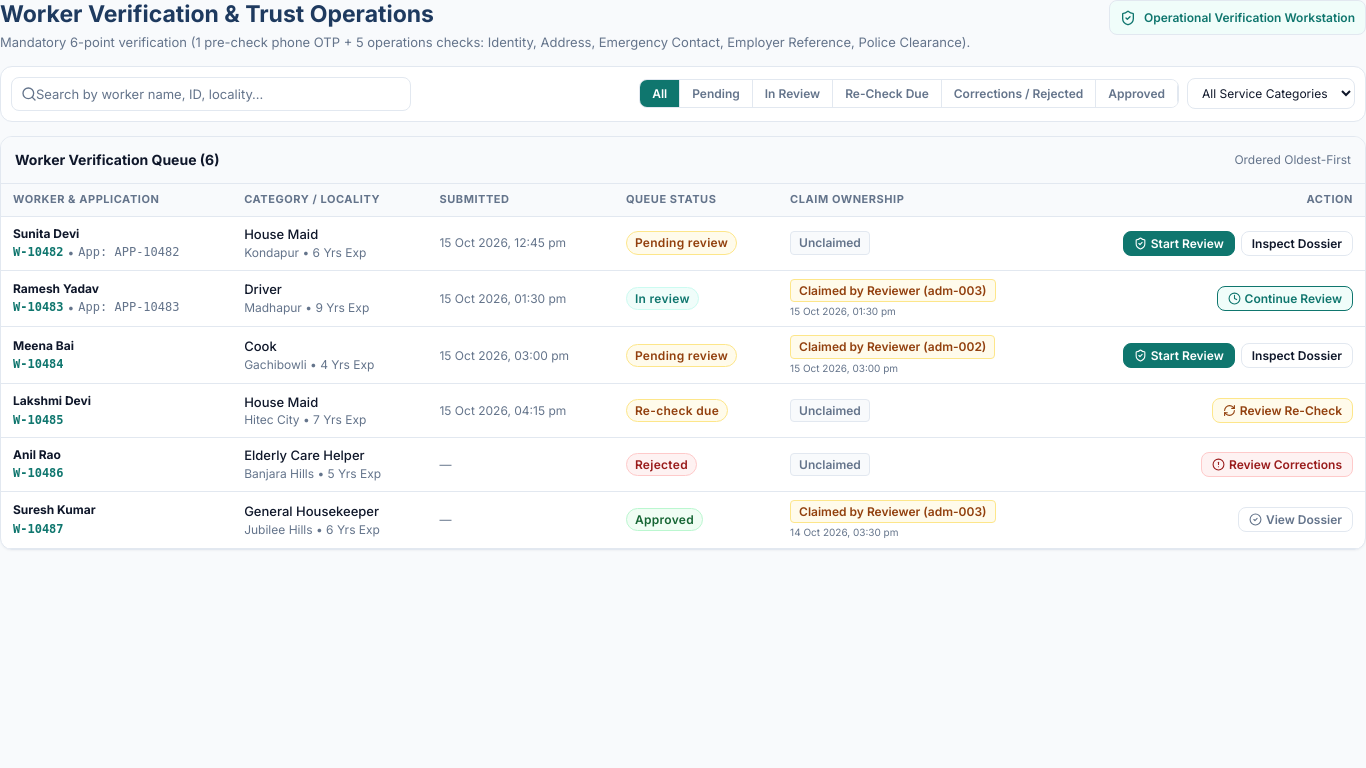
Worker Application & Verification Complete Workflow › 2. Verification Executive Actions & Permissions › allows Verification Executive to claim and start review on a pending dossier
The width and height of the screenshot is (1366, 768).
Click the button with aria-label "Claim & Review": (1179, 243) [1123,231,1235,256]
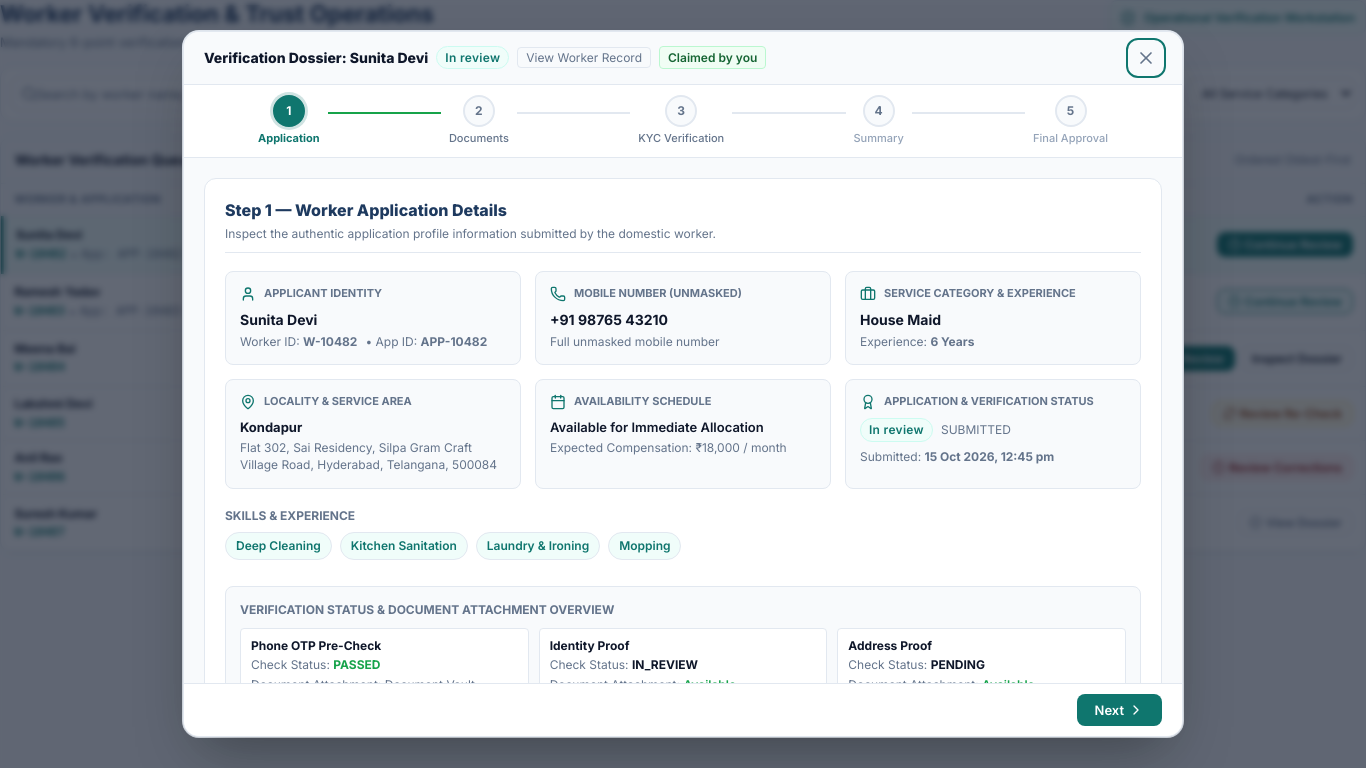
Expected: the heading "Verification Dossier: Sunita Devi" is shown, [204,49,428,67]
